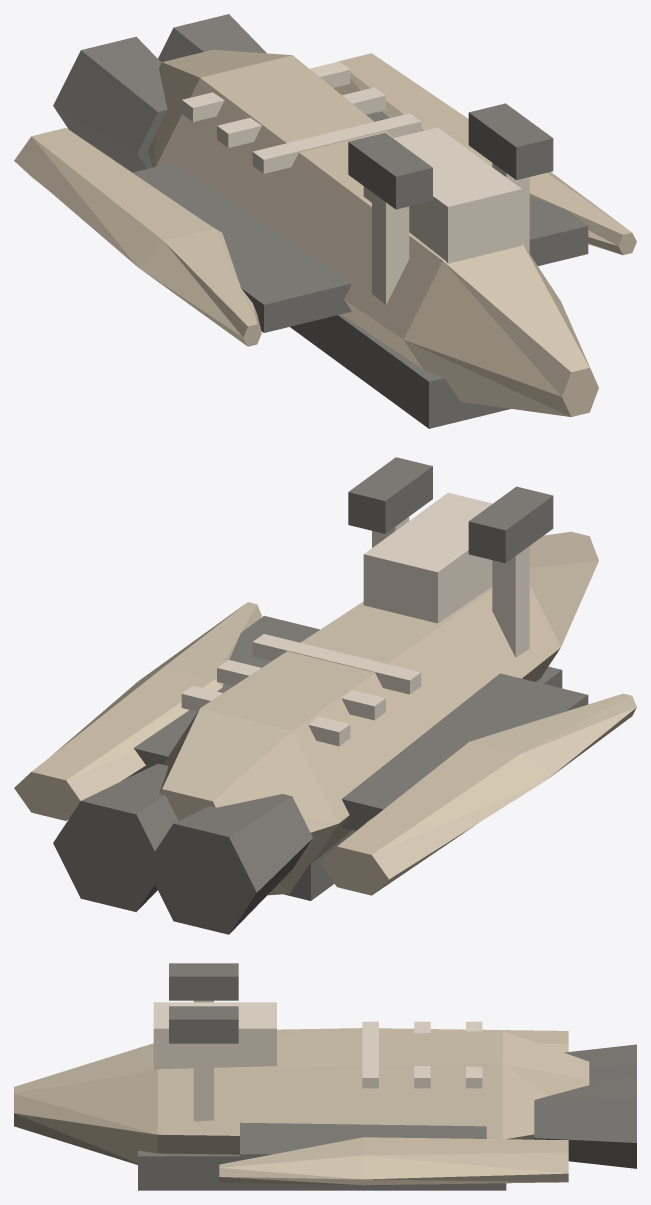
The picture shows the model from 3 angles, top to bottom: view 1: azimuth 30°, elevation 25°; view 2: azimuth 150°, elevation 25°; view 3: azimuth 270°, elevation 25°; orthographic projection. The views are drawn at different scales.
Size of the model in its own units: 3.52 by 1.98 by 6.37.
